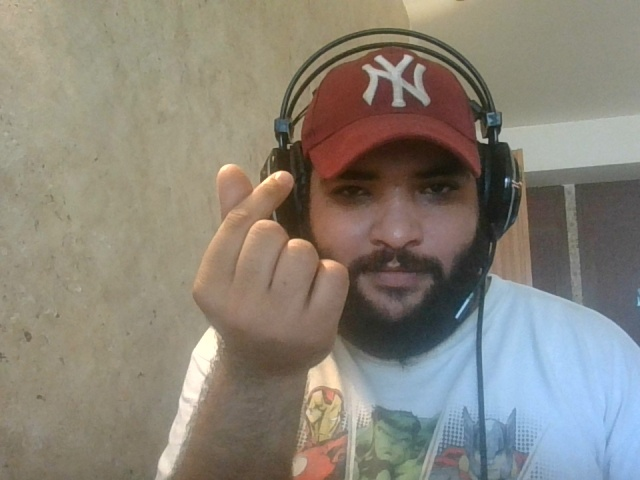iloveyou: (173, 147, 355, 375)
